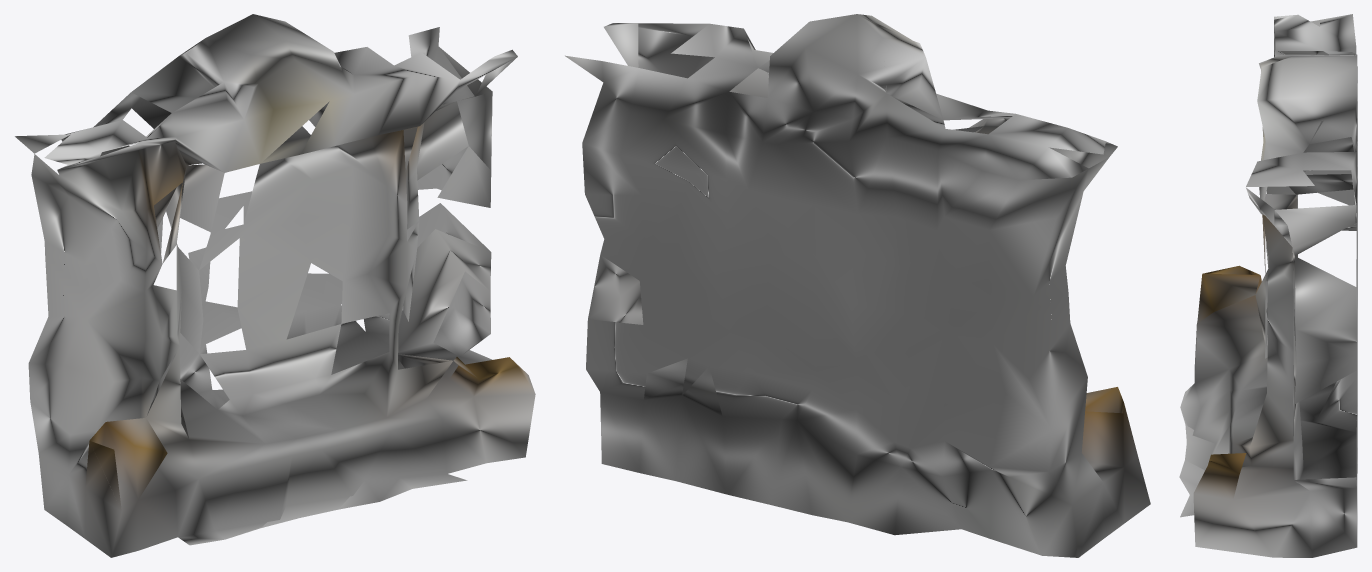
The model's file is civic_founders-wall.glb.
3 views of the same model, side by side, from view 1: azimuth 30°, elevation 25°; view 2: azimuth 150°, elevation 25°; view 3: azimuth 270°, elevation 25° (orthographic). The views are drawn at different scales.
Visible parts, largest first — view 1: geometry_0; view 2: geometry_0; view 3: geometry_0.
Part boxes in pixels (x1,y1,x2,y2): geometry_0: [15, 14, 535, 557]; geometry_0: [565, 14, 1150, 557]; geometry_0: [1179, 14, 1357, 557].
Size of the model in its own units: 6.76 by 5.99 by 2.42.
